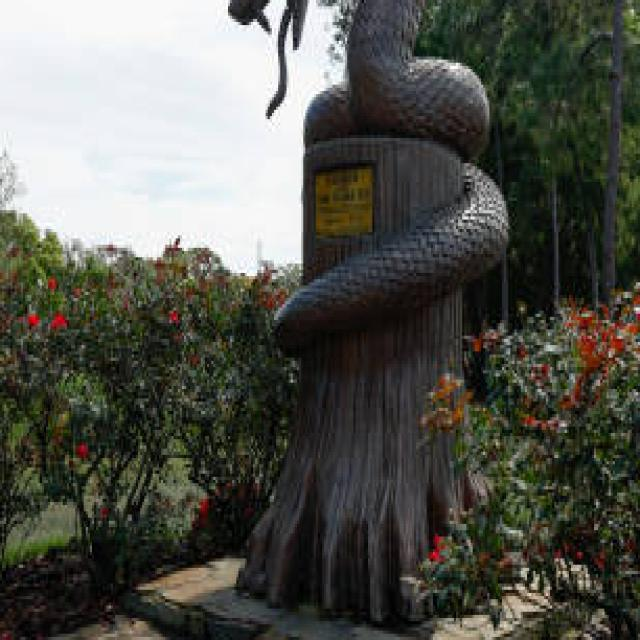Snake: (224, 0, 516, 364)
